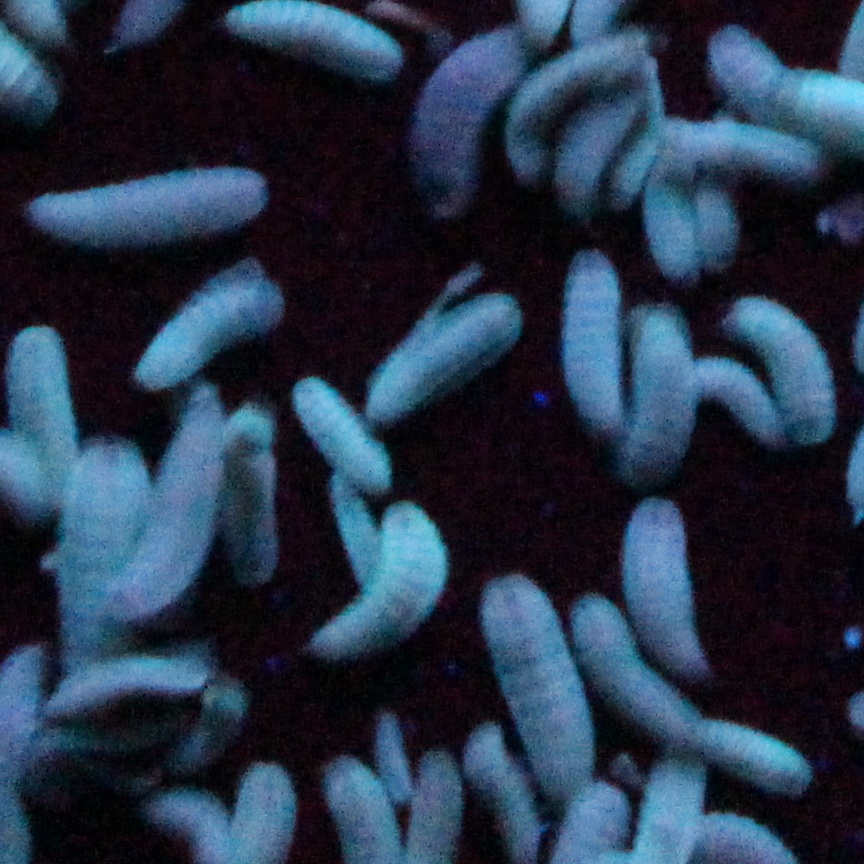larve: (473, 573, 596, 800), (359, 277, 528, 432), (304, 493, 448, 672), (126, 261, 300, 393), (564, 588, 701, 740), (719, 283, 842, 451), (508, 35, 645, 179), (271, 358, 412, 496), (31, 167, 283, 244), (621, 496, 728, 671), (70, 437, 147, 662), (424, 29, 515, 216), (555, 80, 681, 213), (149, 383, 217, 623), (556, 243, 636, 443), (211, 384, 283, 599), (629, 121, 825, 182), (37, 655, 218, 715), (688, 711, 809, 799), (685, 354, 777, 442), (639, 183, 697, 279), (691, 183, 745, 263)
